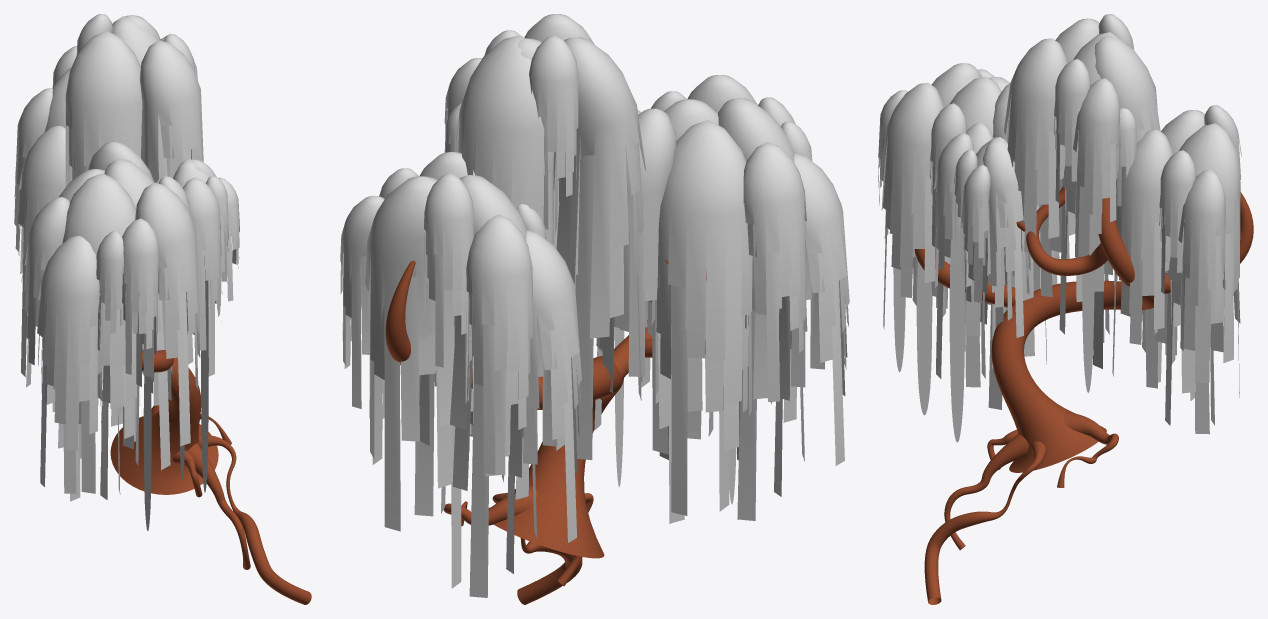
Rendered from Tree 1.fbx.
3 views of the same model, side by side, from view 1: azimuth 30°, elevation 25°; view 2: azimuth 150°, elevation 25°; view 3: azimuth 270°, elevation 25° (orthographic). The views are drawn at different scales.
Parts seen in each view (by area): view 1: Circle.114, NurbsPath, Plane.005; view 2: Circle.114, NurbsPath, Plane.005; view 3: Circle.114, NurbsPath, Plane.005.
Boxes of the visible parts, box(x1,y1,x2,y2) form: Circle.114: box(14, 14, 239, 501); NurbsPath: box(110, 349, 311, 604); Plane.005: box(143, 256, 208, 530); Circle.114: box(340, 14, 849, 597); NurbsPath: box(385, 260, 748, 604); Plane.005: box(614, 327, 736, 504); Circle.114: box(878, 14, 1241, 434); NurbsPath: box(914, 186, 1253, 604); Plane.005: box(893, 226, 1094, 442).
Bounding box in the file's own units: 1.35 × 2.65 × 1.68.
